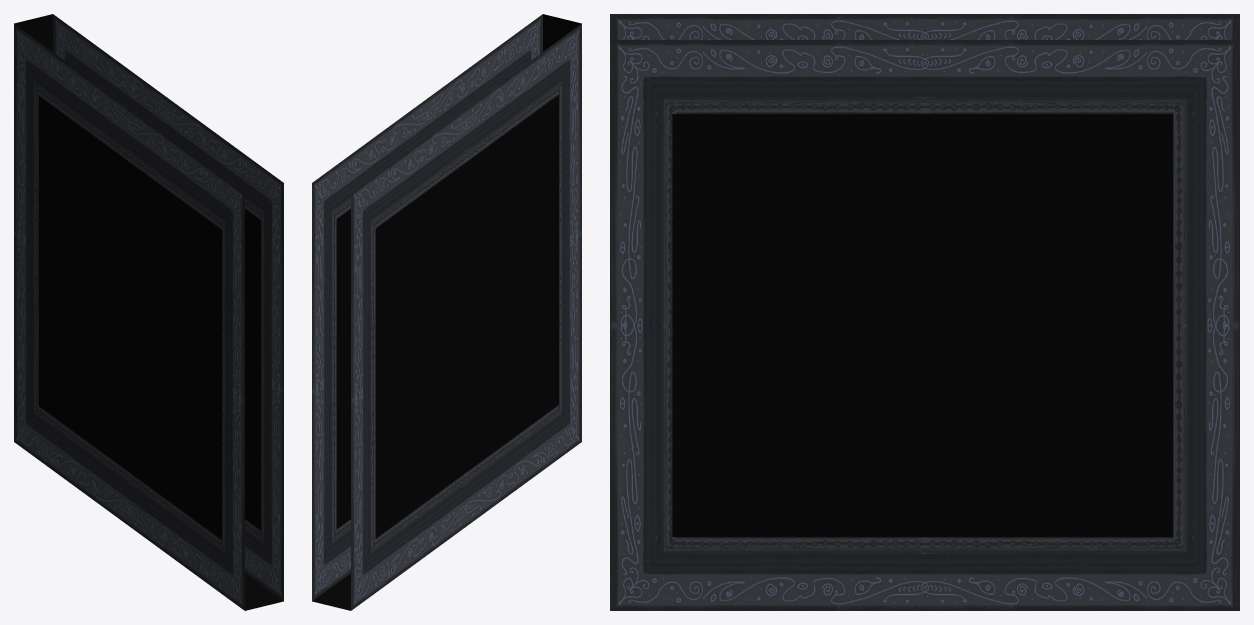
The model's file is AI_rabbit._rahmenglb.glb.
The picture shows the model from 3 angles, left to right: view 1: azimuth 30°, elevation 25°; view 2: azimuth 150°, elevation 25°; view 3: azimuth 270°, elevation 25°; orthographic projection. The views are drawn at different scales.
Visible parts, largest first — view 1: 2D_Bilderrahmen_dark; view 2: 2D_Bilderrahmen_dark; view 3: 2D_Bilderrahmen_dark.
Part boxes in pixels (x1=…): 2D_Bilderrahmen_dark: x1=14, y1=14, x2=283, y2=610; 2D_Bilderrahmen_dark: x1=312, y1=14, x2=581, y2=610; 2D_Bilderrahmen_dark: x1=610, y1=14, x2=1239, y2=610.
Size of the model in its own units: 0.4417 by 4.53 by 4.53.
3 materials, 1 textured.
